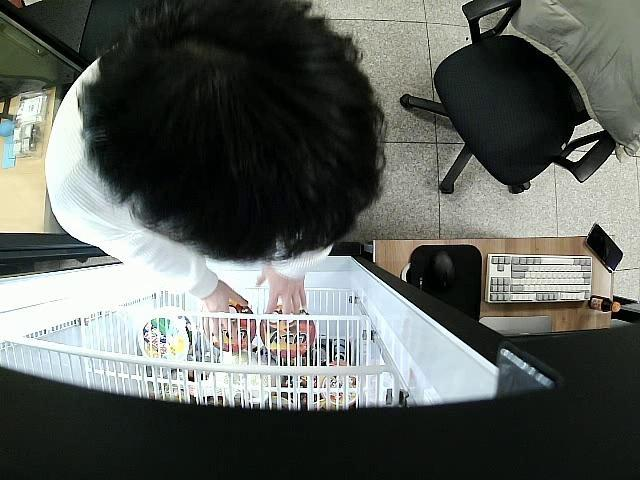05_nuguri_L: (261, 304, 316, 357), (204, 300, 253, 350)
